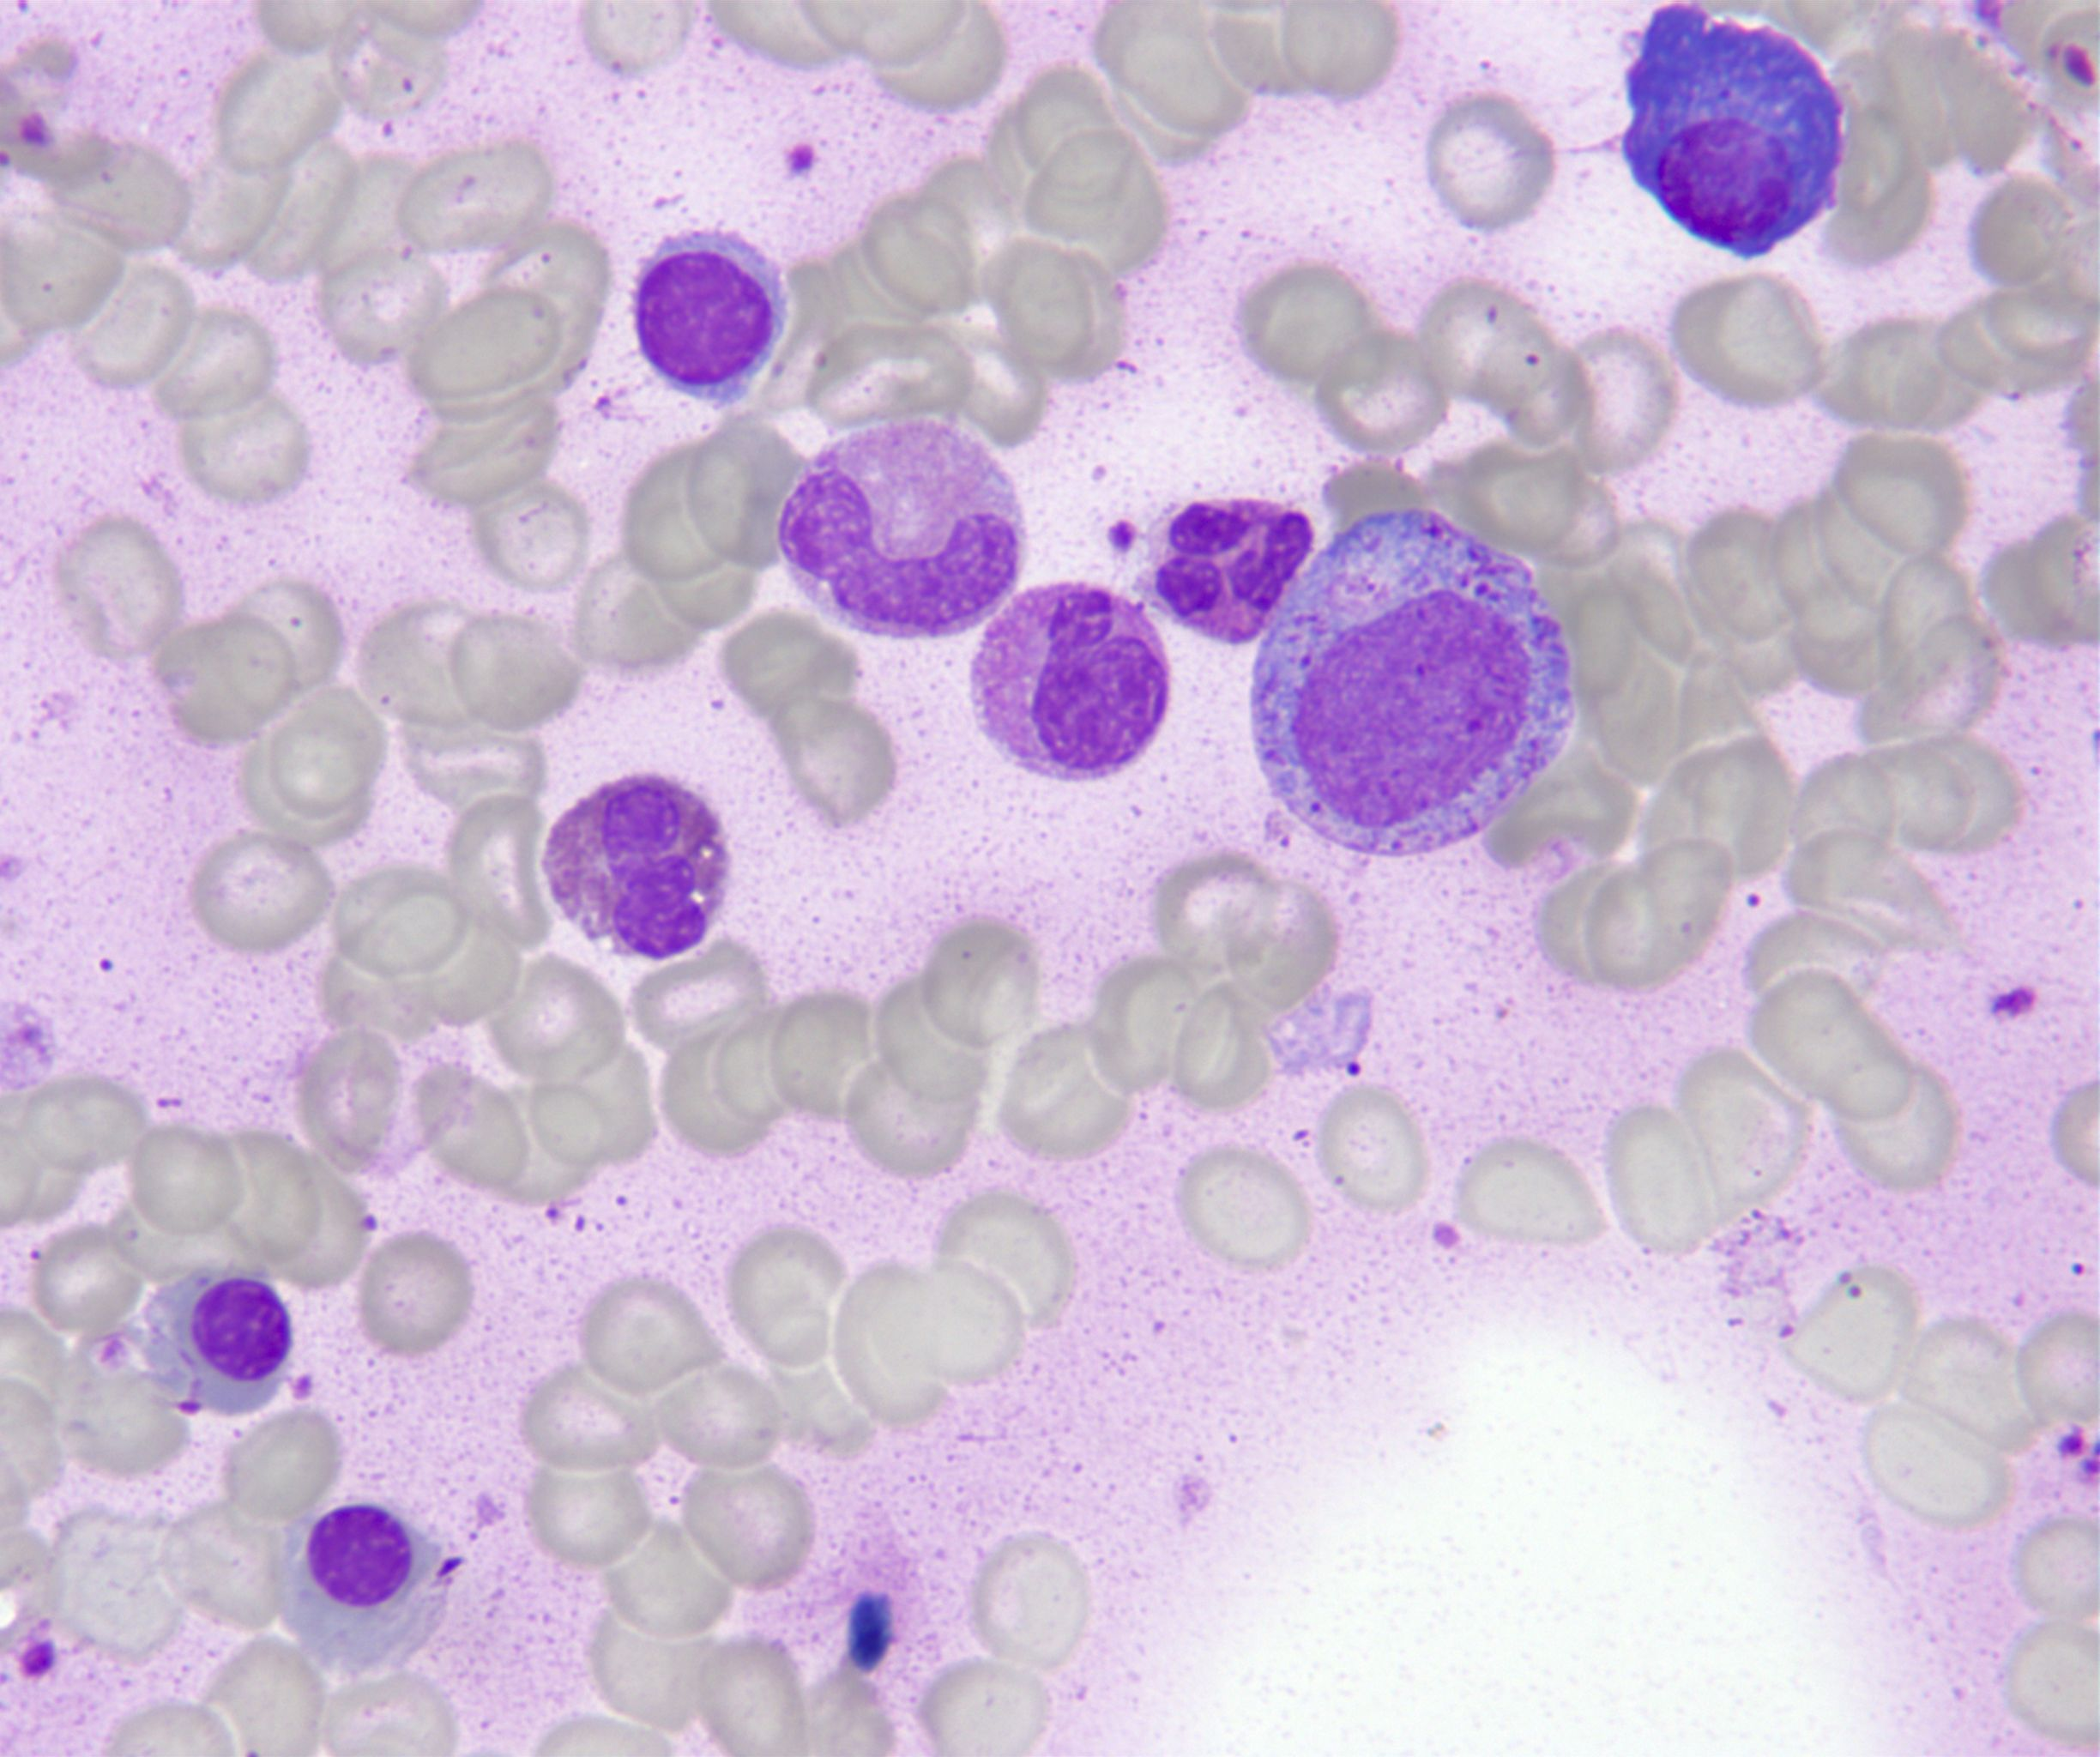2: (1254, 513, 1572, 855)
24: (281, 1502, 443, 1673), (148, 1261, 293, 1415)
32: (635, 232, 788, 410)
5: (776, 420, 1026, 637), (972, 581, 1170, 783)
52: (1624, 5, 1844, 258)
6: (1137, 499, 1313, 644)
E4: (542, 775, 733, 958)
